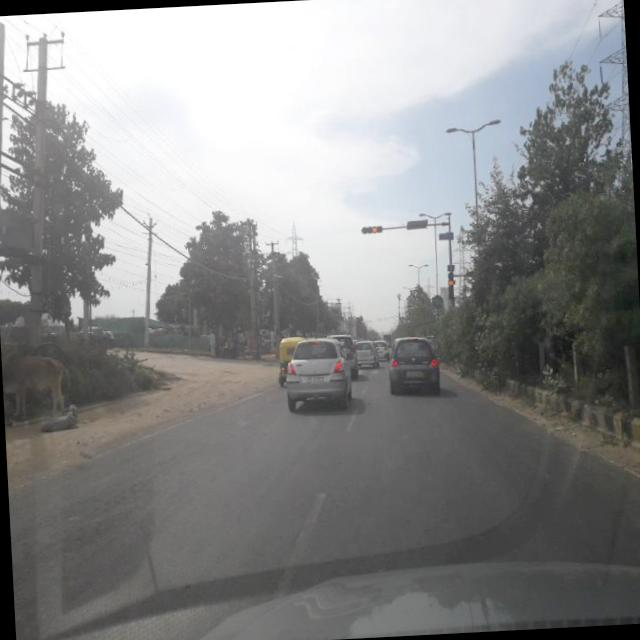crack: (322, 389, 640, 567), (7, 439, 225, 622)
